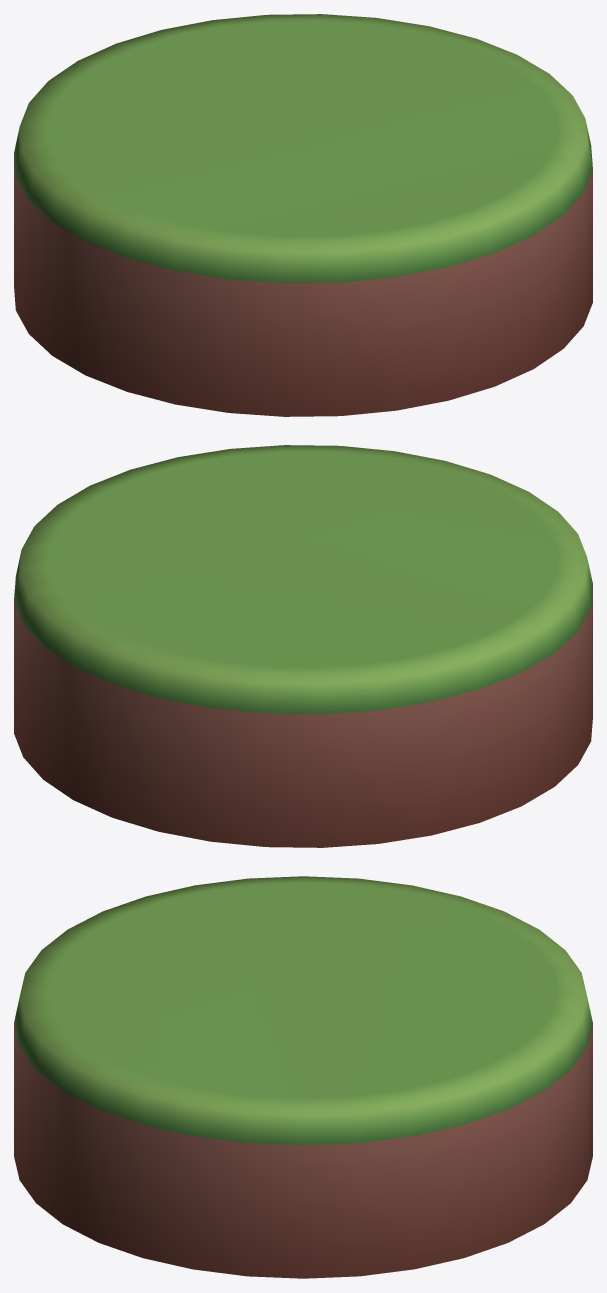
Rendered from Forest_VCillinderBig2.fbx.
3 views of the same model, one above another, from view 1: azimuth 30°, elevation 25°; view 2: azimuth 150°, elevation 25°; view 3: azimuth 270°, elevation 25° (orthographic).
Parts seen in each view (by area): view 1: Circle.018; view 2: Circle.018; view 3: Circle.018.
Boxes of the visible parts, x1=… form: Circle.018: x1=14, y1=14, x2=592, y2=416; Circle.018: x1=14, y1=445, x2=592, y2=847; Circle.018: x1=14, y1=876, x2=592, y2=1278.
Bounding box in the file's own units: 200 × 63.07 × 200.
